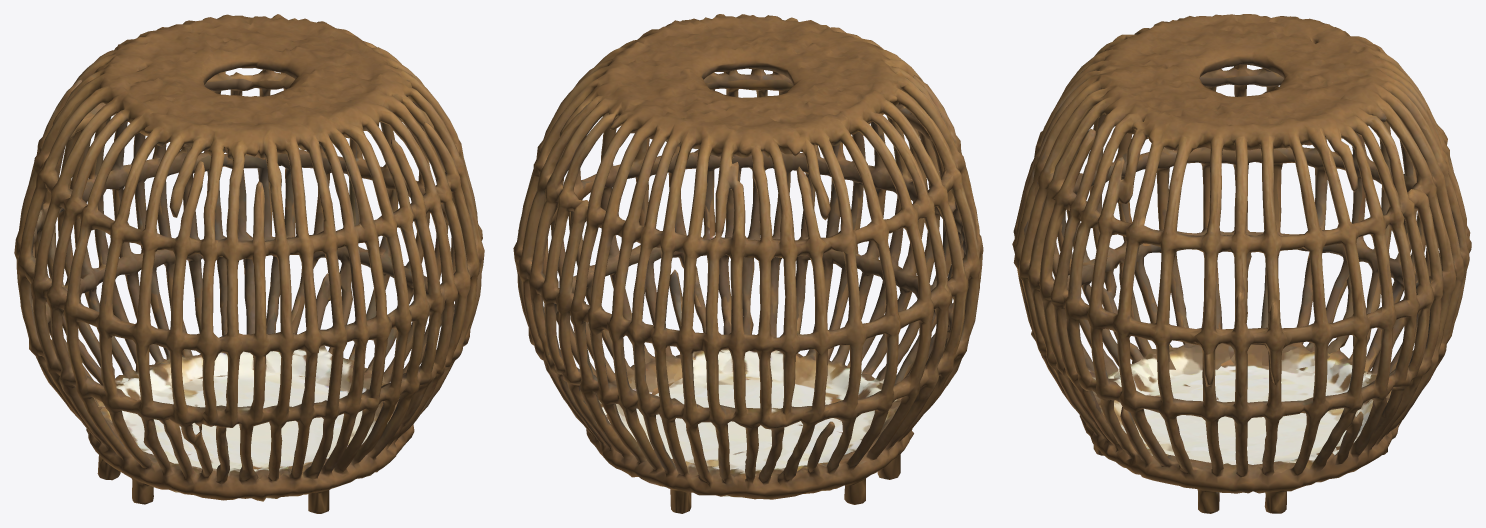
File: product-bohemian-outdoor-rattan-side-table-02.glb
The picture shows the model from 3 angles, left to right: view 1: azimuth 30°, elevation 25°; view 2: azimuth 150°, elevation 25°; view 3: azimuth 270°, elevation 25°; orthographic projection.
Parts seen in each view (by area): view 1: geometry_0; view 2: geometry_0; view 3: geometry_0.
Boxes of the visible parts, <box> form: geometry_0: <box>14,14,484,513</box>; geometry_0: <box>513,14,983,513</box>; geometry_0: <box>1012,14,1471,513</box>.
Bounding box in the file's own units: 1.97 × 1.82 × 1.97.
Materials: 1 (1 with a texture image).
